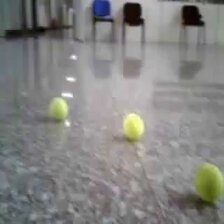tennis: (195, 164, 224, 203), (122, 112, 144, 138), (49, 97, 68, 118)
